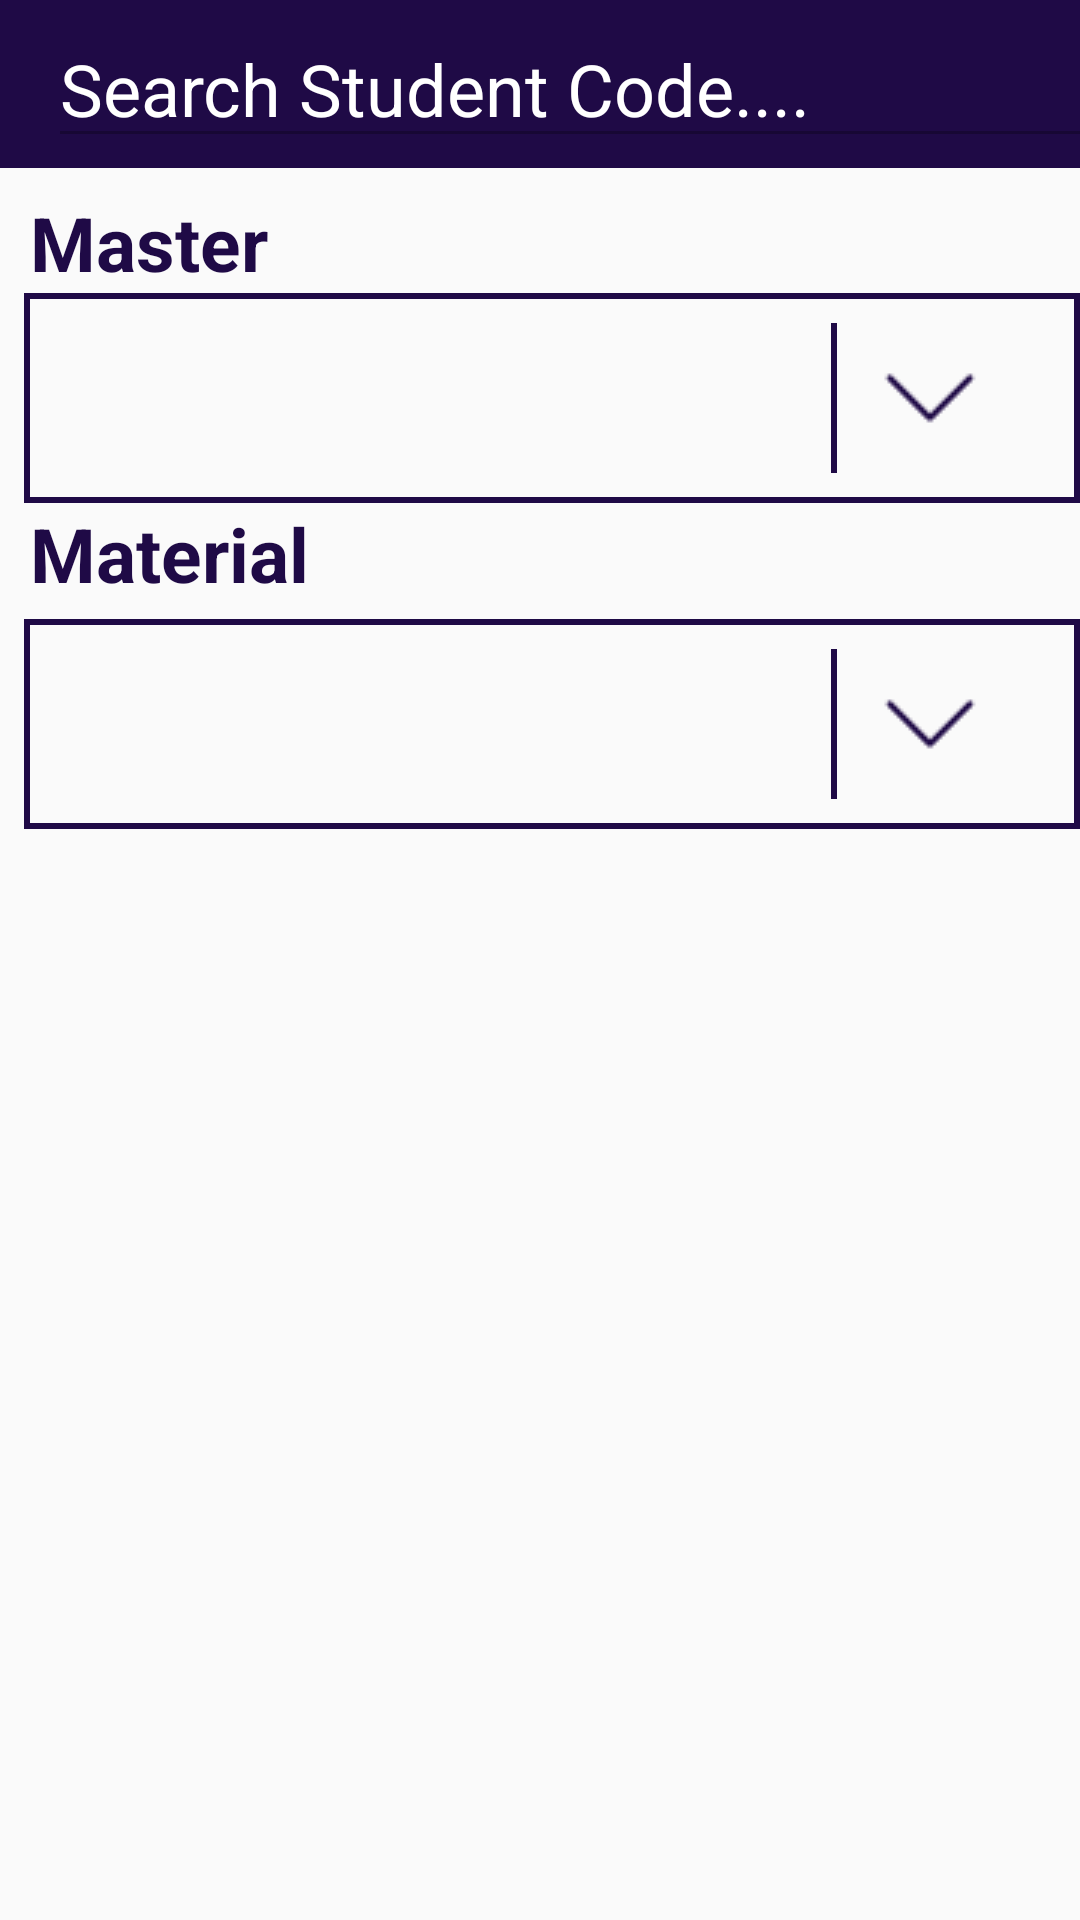

Locate icon controls on the screen. Image size 1080x1920, boxes as detection(x1, y1, x2, y2).
down arrow: detection(885, 373, 975, 423), detection(885, 699, 975, 749)
